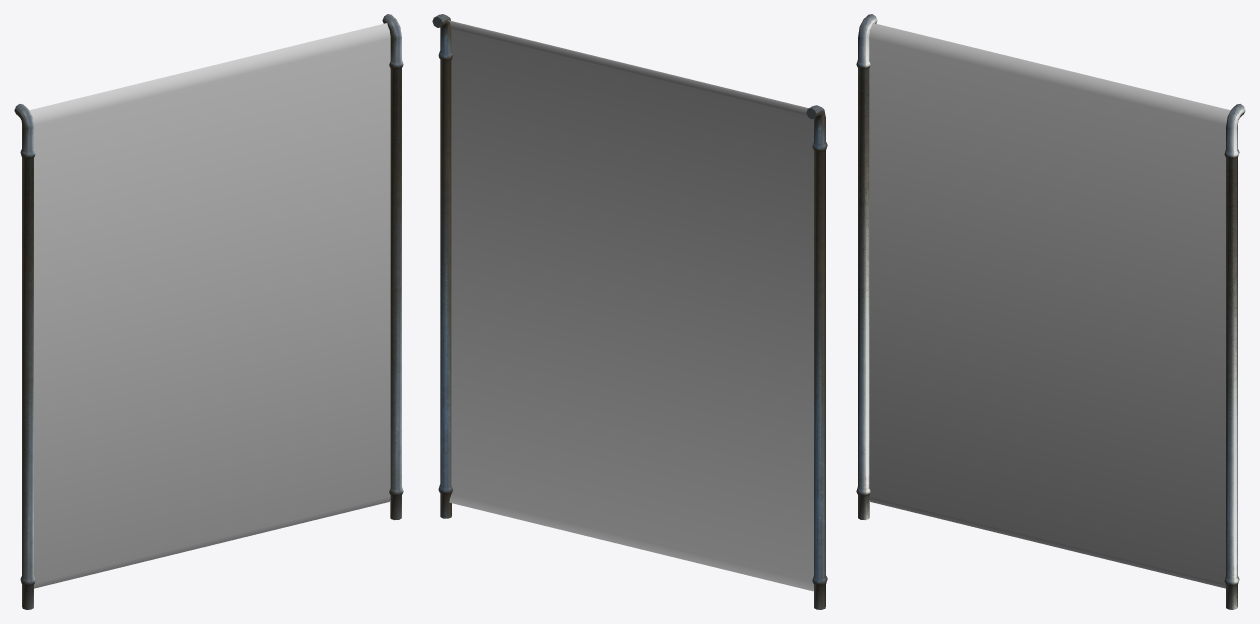
Rendered from chain_fence.fbx.
3 renders of one model, left to right at view 1: azimuth 30°, elevation 25°; view 2: azimuth 150°, elevation 25°; view 3: azimuth 330°, elevation 25°, orthographic.
Visible parts, largest first — view 1: Circle; view 2: Circle; view 3: Circle.
Part boxes in pixels (bbox=[...]): Circle: bbox=[14, 14, 403, 609]; Circle: bbox=[432, 14, 827, 609]; Circle: bbox=[856, 14, 1245, 609].
Size of the model in its own units: 415 by 517 by 23.05.
